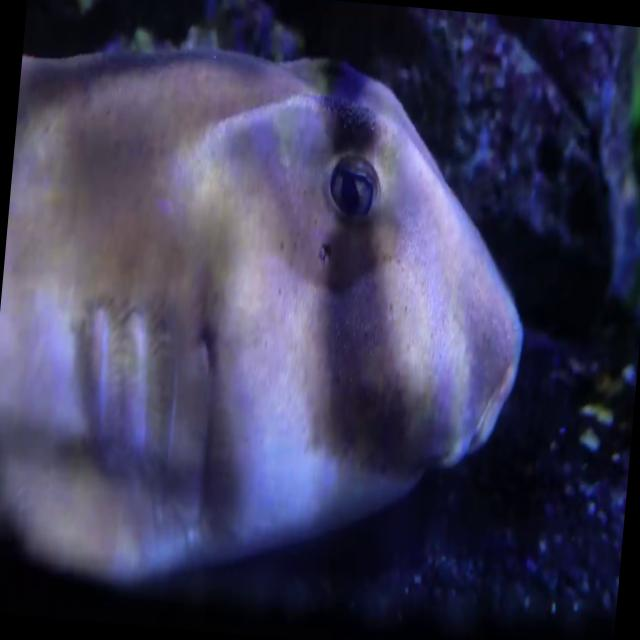fish: (0, 32, 548, 601)
